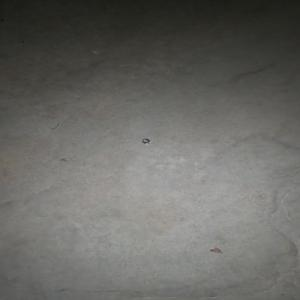Nut: (141, 138, 150, 144)
